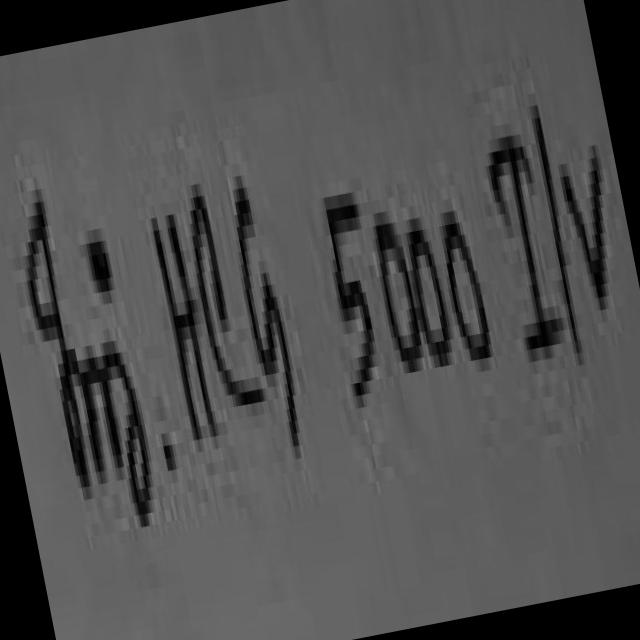0: (446, 211, 493, 360), (379, 223, 423, 373), (412, 229, 451, 367)
5: (330, 195, 374, 390)
C: (193, 197, 264, 406)
G: (238, 189, 301, 440)
H: (155, 218, 215, 440)
I: (30, 201, 89, 488), (493, 135, 563, 343)
j: (107, 353, 152, 527), (88, 230, 112, 304)
n: (81, 357, 123, 478)
v: (564, 145, 608, 303)
